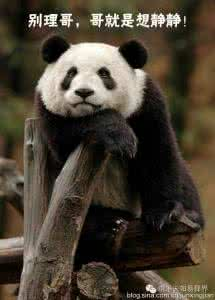panda: (22, 35, 207, 261)
